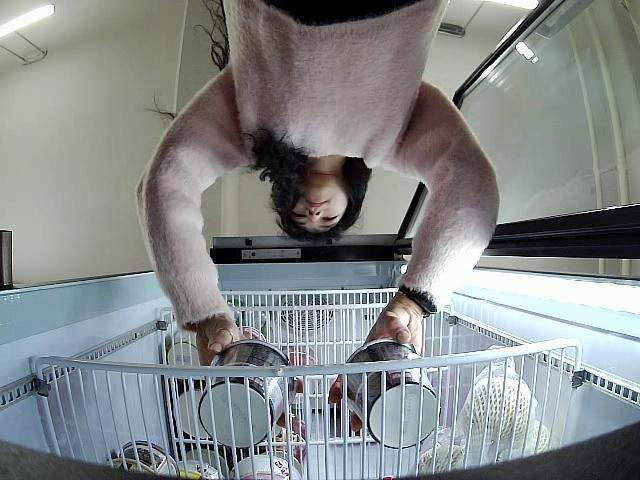00_hand: (327, 310, 423, 433), (193, 323, 303, 429)
08_buldak_S: (340, 337, 441, 450), (198, 341, 295, 451)
